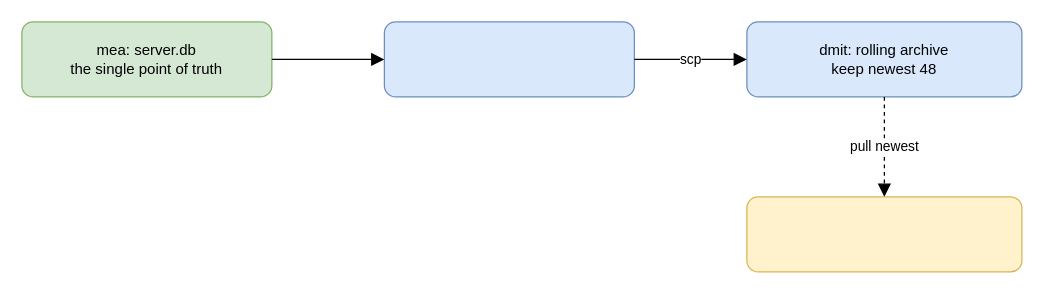
The diagram is 1044 pixels wide and 294 high, and some of its shapes have lost their labels. Each missing label, with the centre of its shape:
"hourly .backup + integrity_check" goes at point (508, 59).
"restore drill always on a copy" goes at point (884, 234).
